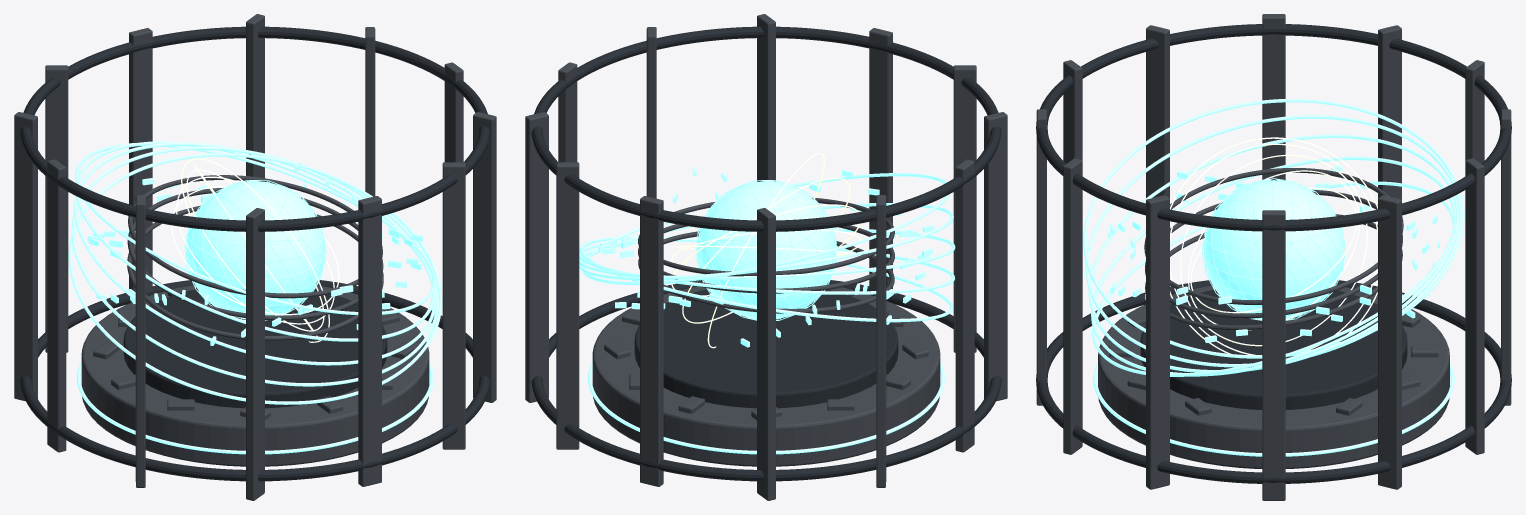
The model's file is engine_tower.glb.
3 views of the same model, side by side, from view 1: azimuth 30°, elevation 25°; view 2: azimuth 150°, elevation 25°; view 3: azimuth 270°, elevation 25° (orthographic).
Parts seen in each view (by area): view 1: base_ring, base_core, shell_ring_7, core_orb, shell_ring_0, shell_pillar_10, shell_pillar_11, shell_pillar_12, shell_pillar_06, shell_pillar_07, shell_pillar_09, shell_pillar_04 (+16 smaller); view 2: base_ring, base_core, shell_ring_7, core_orb, shell_ring_0, shell_pillar_04, shell_pillar_03, shell_pillar_02, shell_pillar_08, shell_pillar_07, shell_pillar_05, shell_pillar_10 (+15 smaller); view 3: base_ring, base_core, shell_ring_7, core_orb, shell_ring_0, shell_pillar_01, shell_pillar_02, shell_pillar_12, shell_pillar_03, shell_pillar_11, shell_pillar_08, shell_pillar_06 (+20 smaller).
Part boxes in pixels (x1,y1,x2,y2): base_ring: (81,285,429,466); base_core: (123,289,387,408); shell_ring_7: (20,26,490,231); core_orb: (186,181,324,319); shell_ring_0: (20,280,490,481); shell_pillar_10: (358,196,381,486); shell_pillar_11: (442,162,465,449); shell_pillar_12: (473,112,496,402); shell_pillar_06: (14,112,37,401); shell_pillar_07: (47,159,66,452); shell_pillar_09: (246,208,264,500); shell_pillar_04: (129,28,152,292); base_ring: (592,286,940,466); base_core: (634,289,898,408); shell_ring_7: (531,26,1001,231); core_orb: (697,181,835,319); shell_ring_0: (531,280,1001,481); shell_pillar_04: (640,196,663,486); shell_pillar_03: (556,162,579,449); shell_pillar_02: (525,112,548,402); shell_pillar_08: (984,112,1007,401); shell_pillar_07: (955,159,974,452); shell_pillar_05: (757,208,775,500); shell_pillar_10: (869,28,892,291); base_ring: (1098,285,1449,468); base_core: (1140,289,1407,409); shell_ring_7: (1036,24,1511,231); core_orb: (1203,180,1344,319); shell_ring_0: (1036,280,1511,483); shell_pillar_01: (1262,210,1285,500); shell_pillar_02: (1378,195,1401,489); shell_pillar_12: (1146,195,1169,489); shell_pillar_03: (1465,158,1484,454); shell_pillar_11: (1063,158,1082,454); shell_pillar_08: (1146,25,1169,198); shell_pillar_06: (1378,25,1401,199).
Bounding box in the file's own units: 12.3 × 8.2 × 12.3.
